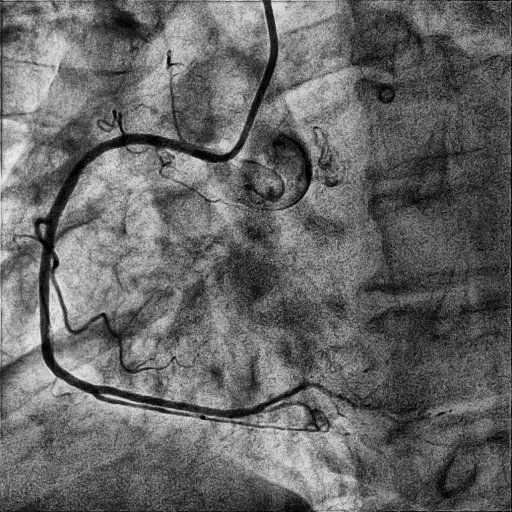pborca: (95, 382, 306, 418)
pda: (92, 394, 271, 428)
rca: (39, 133, 214, 394)
